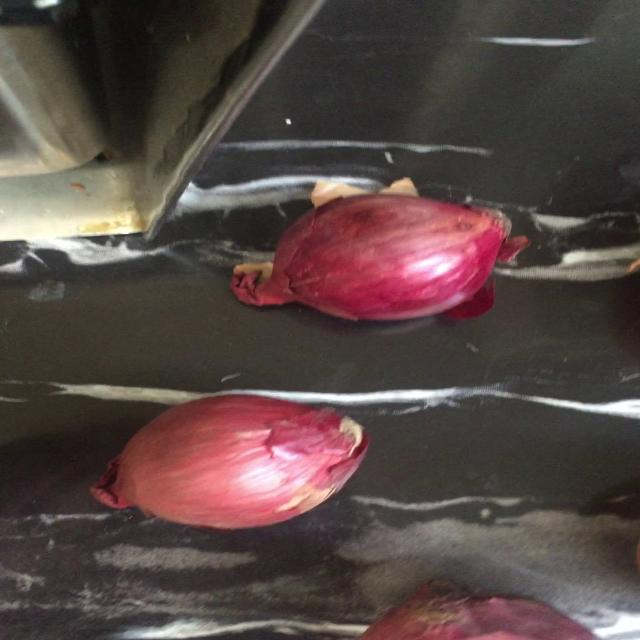Onion: (93, 395, 369, 530), (268, 194, 506, 320), (358, 582, 596, 640)
